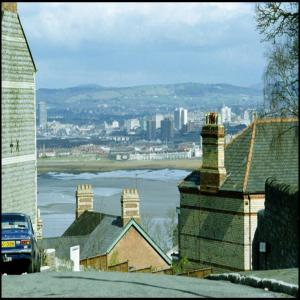Vehicle-registration-plate: (1, 242, 15, 248)
